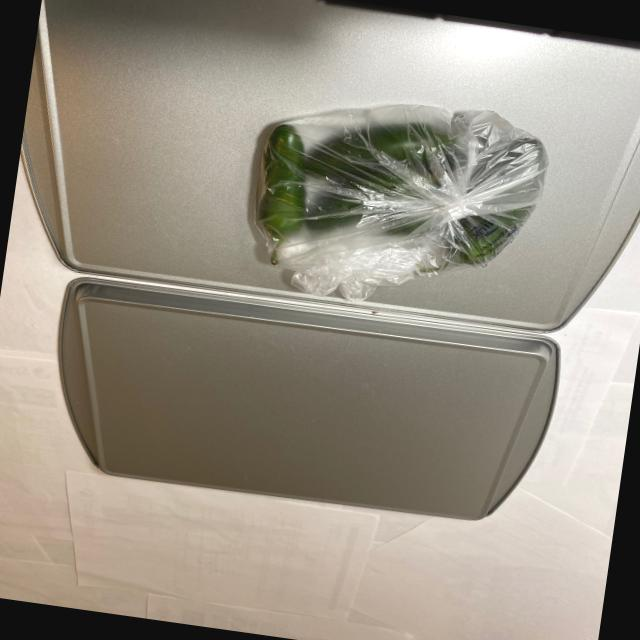chilli: (239, 85, 553, 302)
